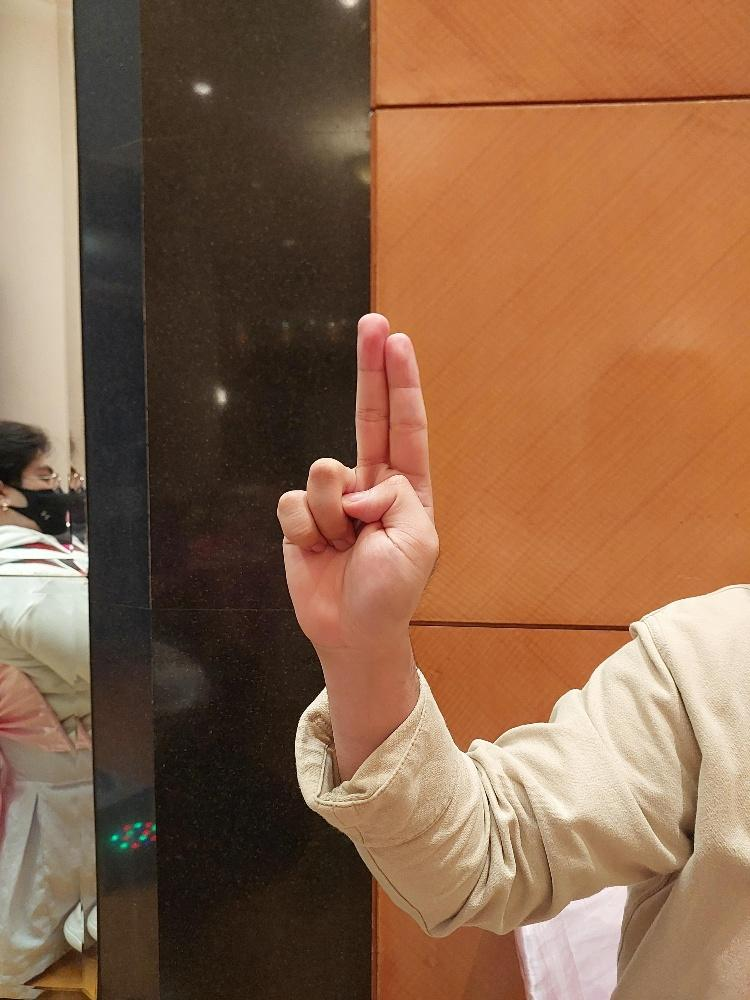u: (275, 306, 441, 654)
